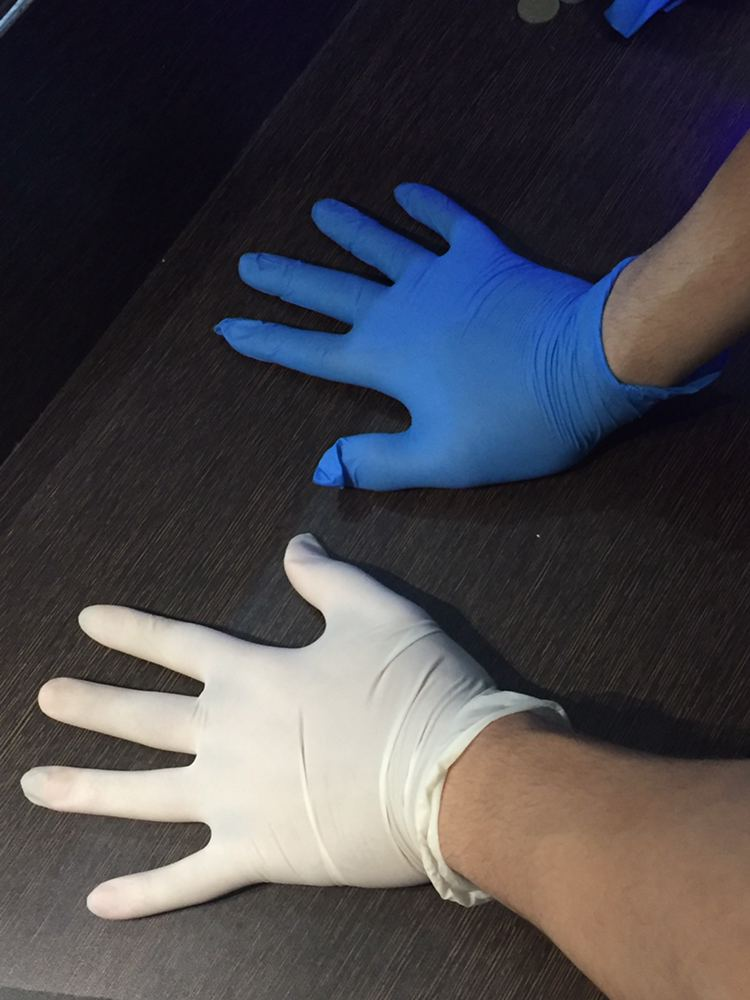glove: (23, 522, 453, 937), (177, 152, 621, 535)
